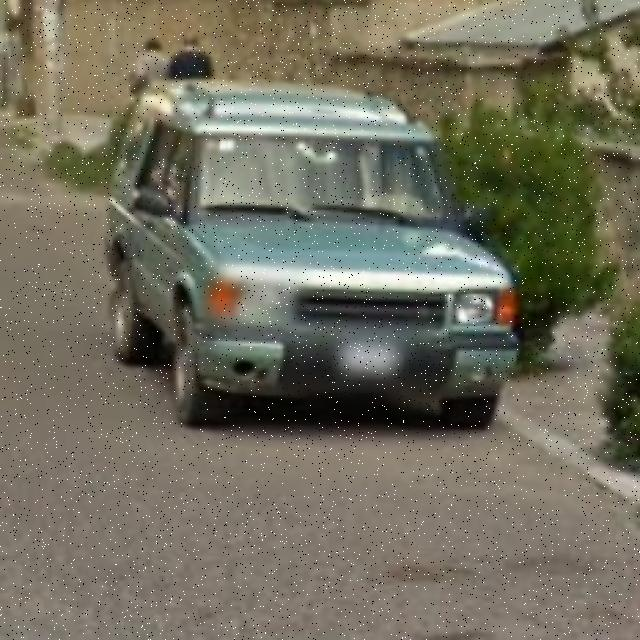cars: (98, 79, 520, 443)
